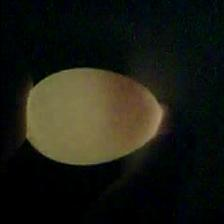infertile: (22, 67, 163, 167)
